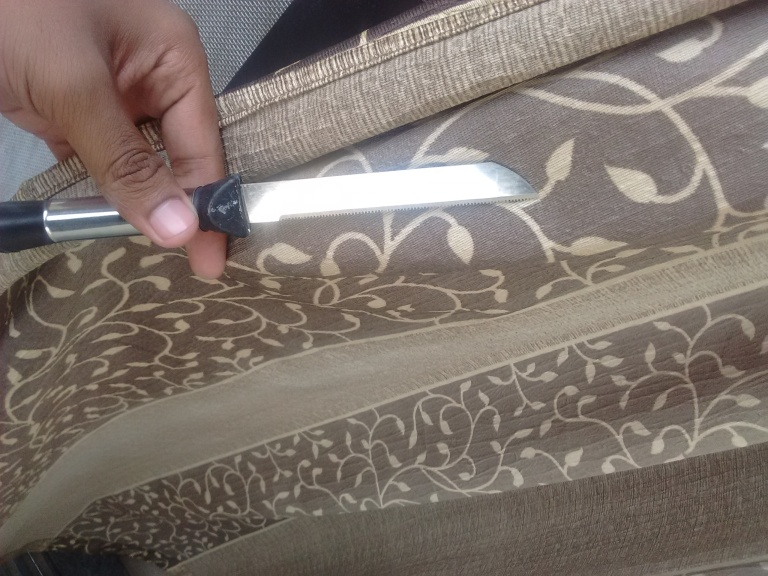knife: (3, 161, 543, 253)
